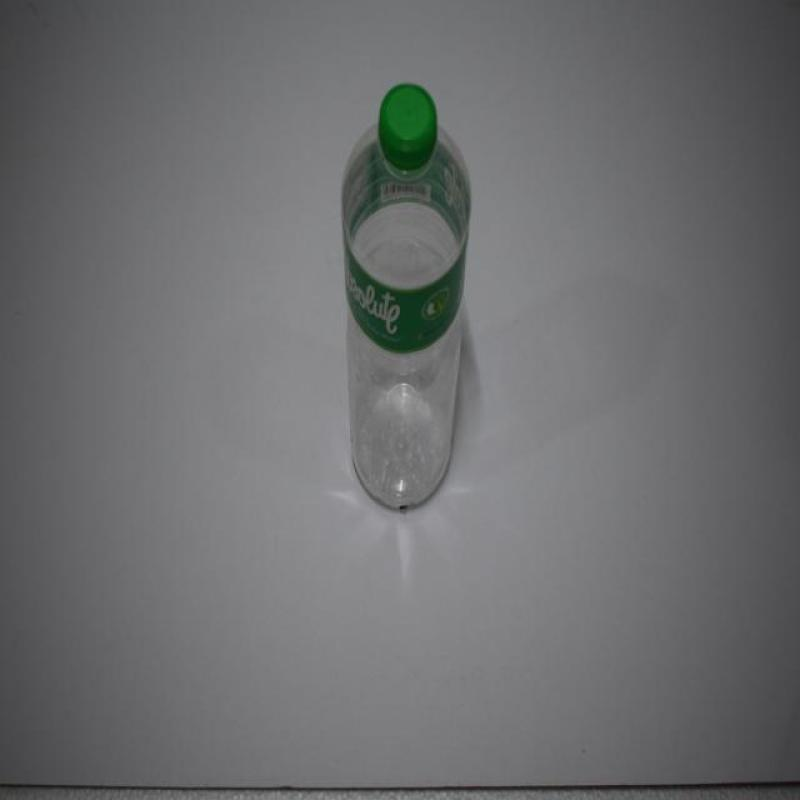botella: (343, 83, 469, 512)
